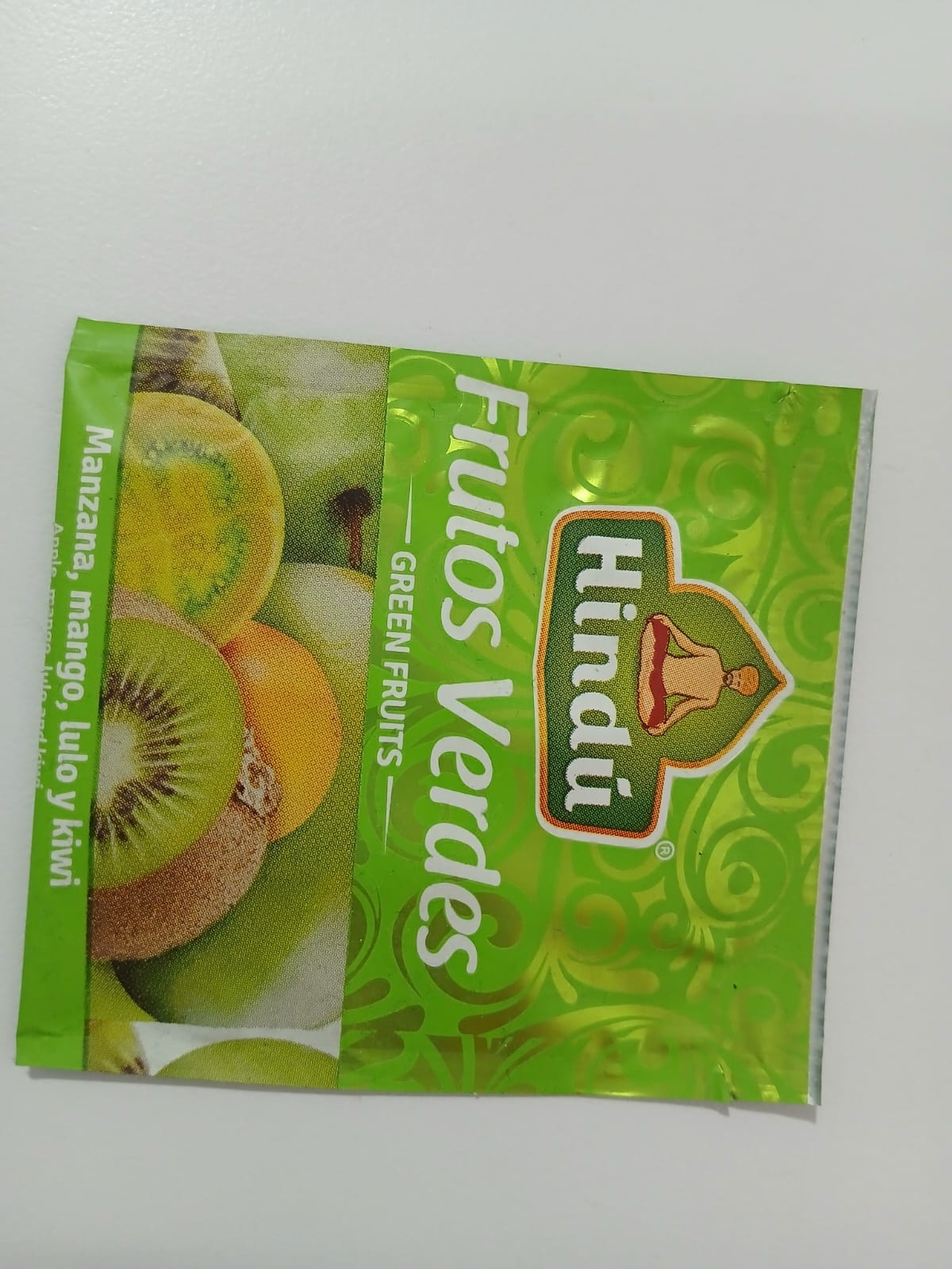Ordinario: (18, 319, 880, 1113)
